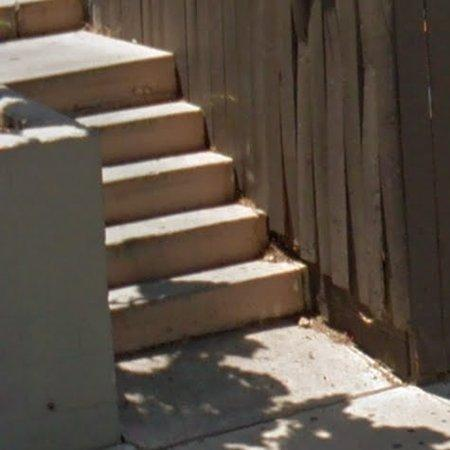stairs: (0, 30, 308, 354)
